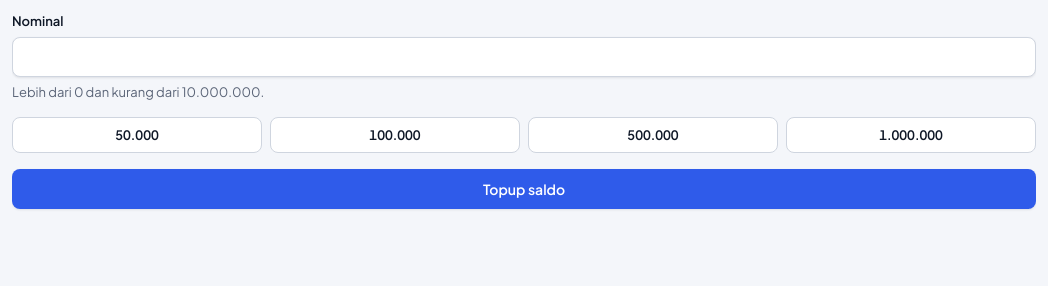
Test: TopUpForm › shows the error from the API
The image size is (1048, 286).
Type "5" into the field labelled "Nominal" at [524, 57], box [12,37,1036,77]
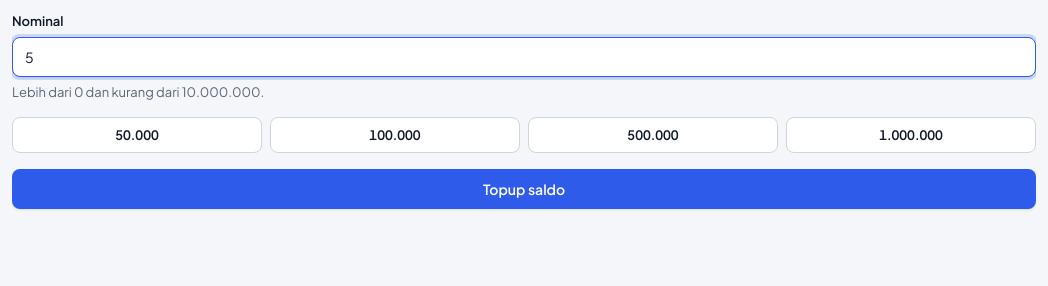
Click the button "Topup saldo" at [524, 189], box [12,169,1036,209]
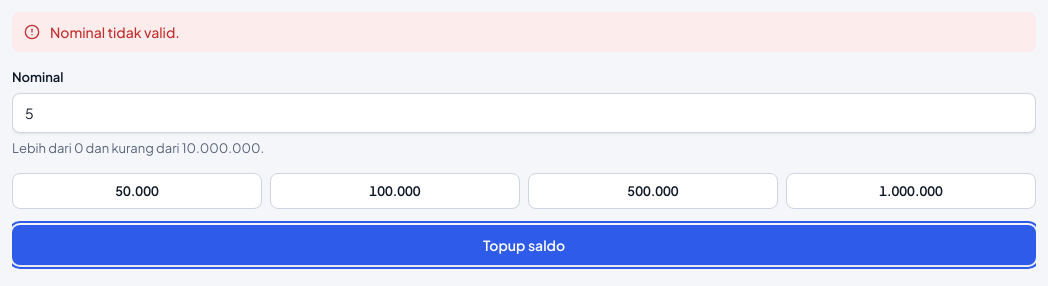
Expected: the message reads "Nominal tidak valid.", [50,23,180,41]
